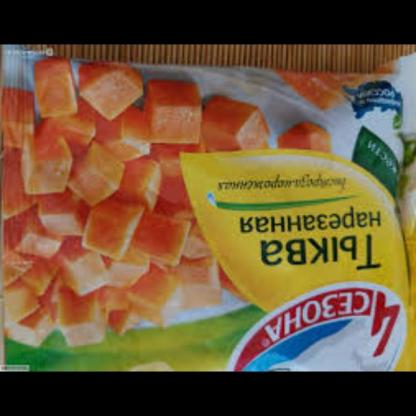pumpkin: (0, 63, 238, 353), (195, 89, 266, 161), (277, 64, 351, 112), (276, 115, 338, 159)
